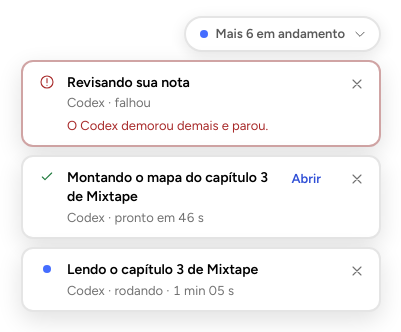
Test case: pilha de avisos do Codex › mostra rótulo, estado e tempo; falha com mensagem; conclusão com Abrir
The width and height of the screenshot is (401, 332).
Expected: the text "O Codex demorou demais e parou." is shown, [67,118,268,133]
Expected: the text "Codex · rodando · 1 min 05 s" is shown, [67,283,234,298]
Click the link "Abrir": (306, 178) [292,171,321,186]
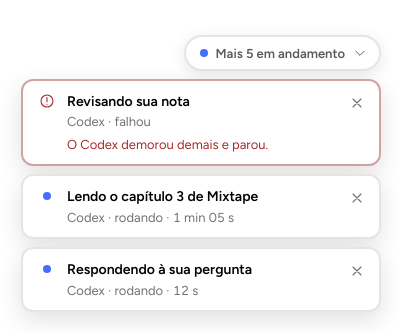
Expected: the text "Montando o mapa do capítulo 3 de Mixtape" is gone
